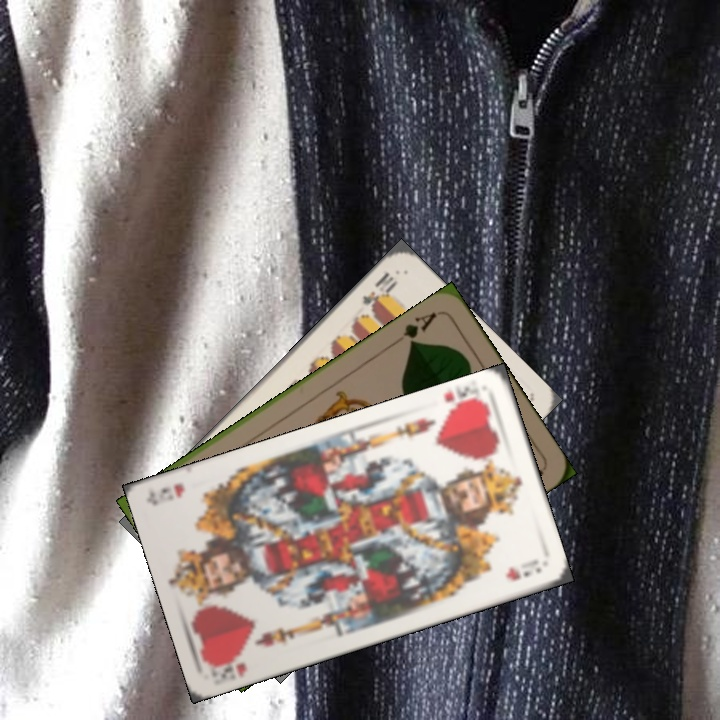E10: (358, 267, 401, 314)
GA: (399, 307, 440, 349)
HK: (439, 387, 489, 418), (206, 650, 249, 681)
